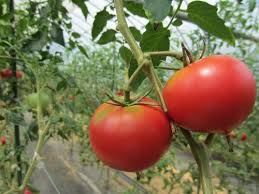tomato: (160, 55, 255, 135), (88, 98, 173, 172)
